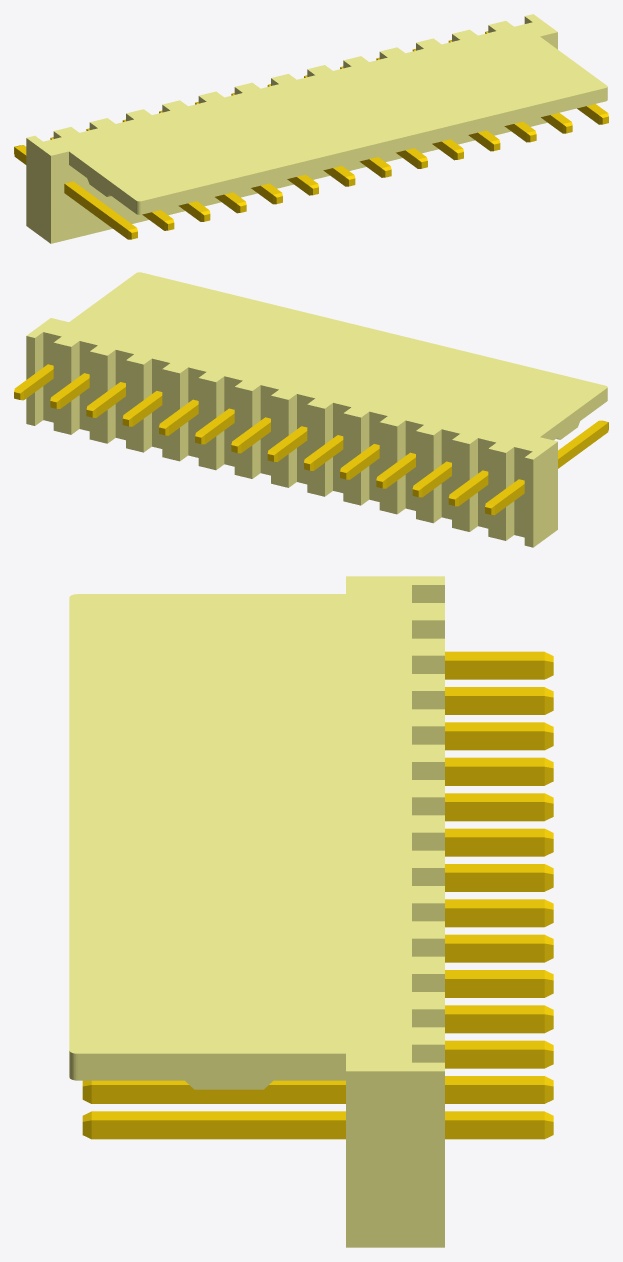
File: DS1070-14 (WF-14 CONNFLY).obj
3 renders of one model, top to bottom at view 1: azimuth 30°, elevation 25°; view 2: azimuth 150°, elevation 25°; view 3: azimuth 270°, elevation 25°, orthographic. The views are drawn at different scales.
Visible parts, largest first — view 1: DS1070-14_(WF-14_CONNFLY); view 2: DS1070-14_(WF-14_CONNFLY); view 3: DS1070-14_(WF-14_CONNFLY).
Boxes of the visible parts, left/top/right/bottom form: DS1070-14_(WF-14_CONNFLY): left=14, top=14, right=608, bottom=243; DS1070-14_(WF-14_CONNFLY): left=14, top=272, right=608, bottom=547; DS1070-14_(WF-14_CONNFLY): left=69, top=576, right=553, bottom=1247.
Bounding box in the file's own units: 0.0174 × 0.00288 × 0.00718.
